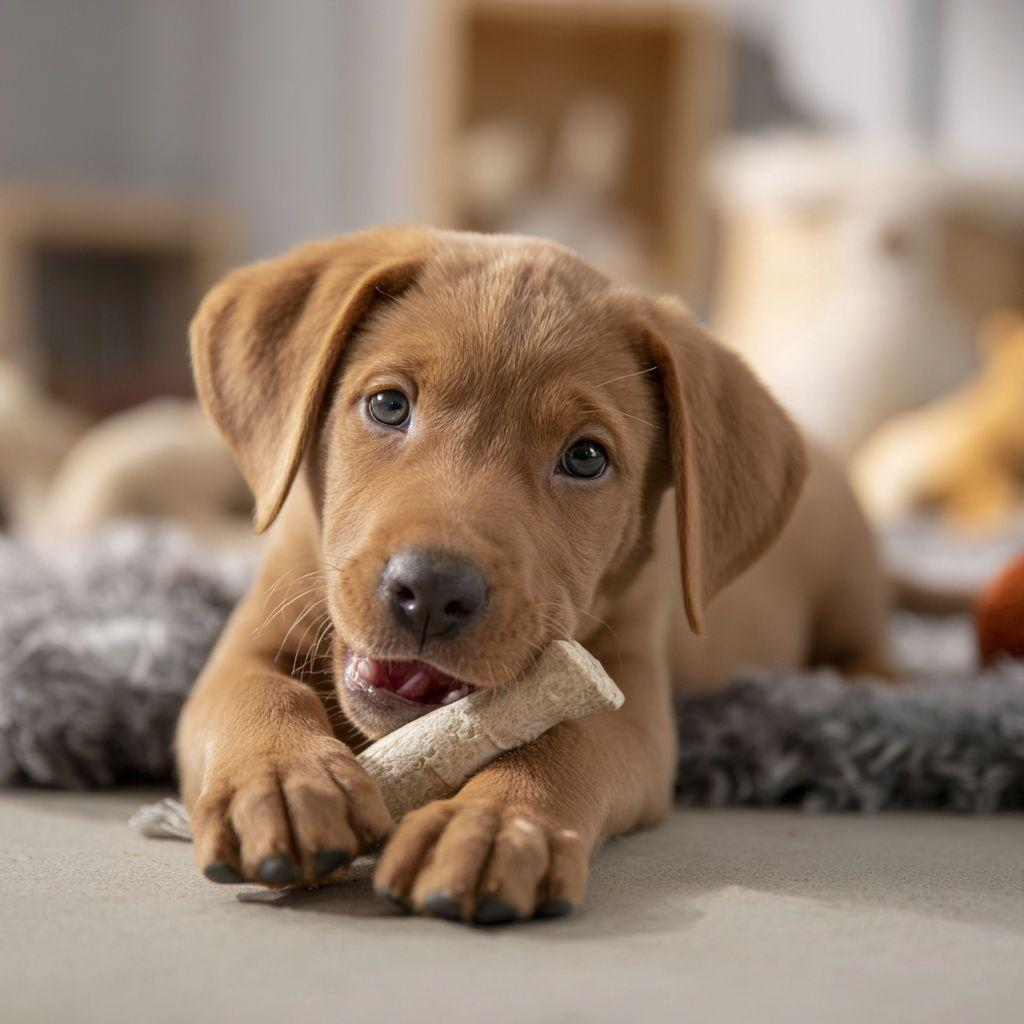puppy-dog: (175, 218, 894, 930)
